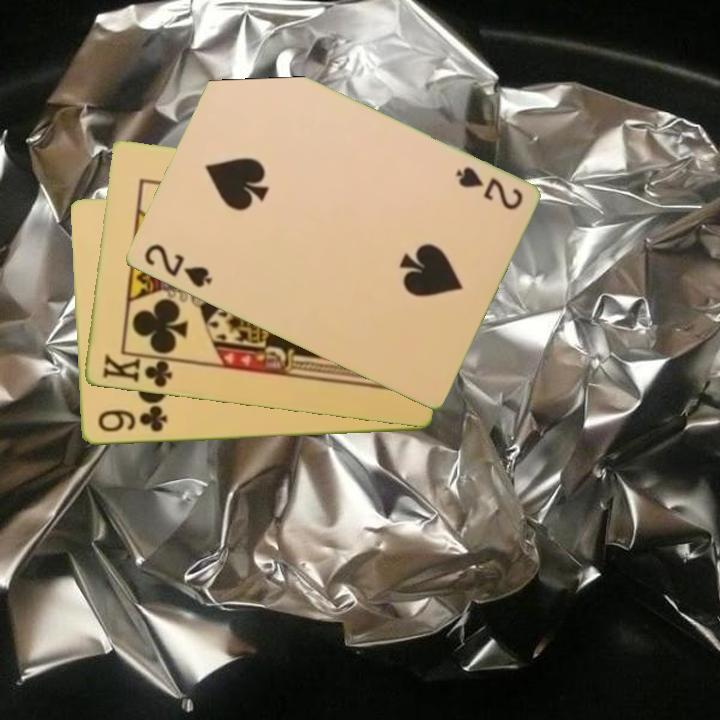2s: (140, 240, 215, 291), (451, 163, 526, 213)
9c: (94, 405, 170, 435)
Kc: (99, 351, 179, 391)
